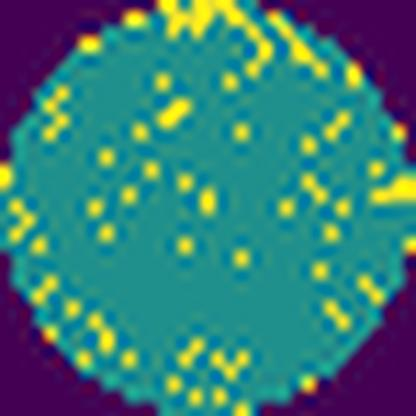Edge-Loc: (158, 0, 272, 94), (365, 170, 415, 209)
